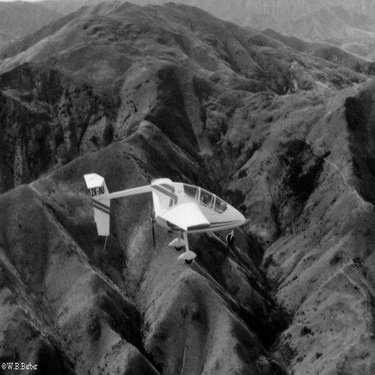airplane: (70, 168, 256, 265)
